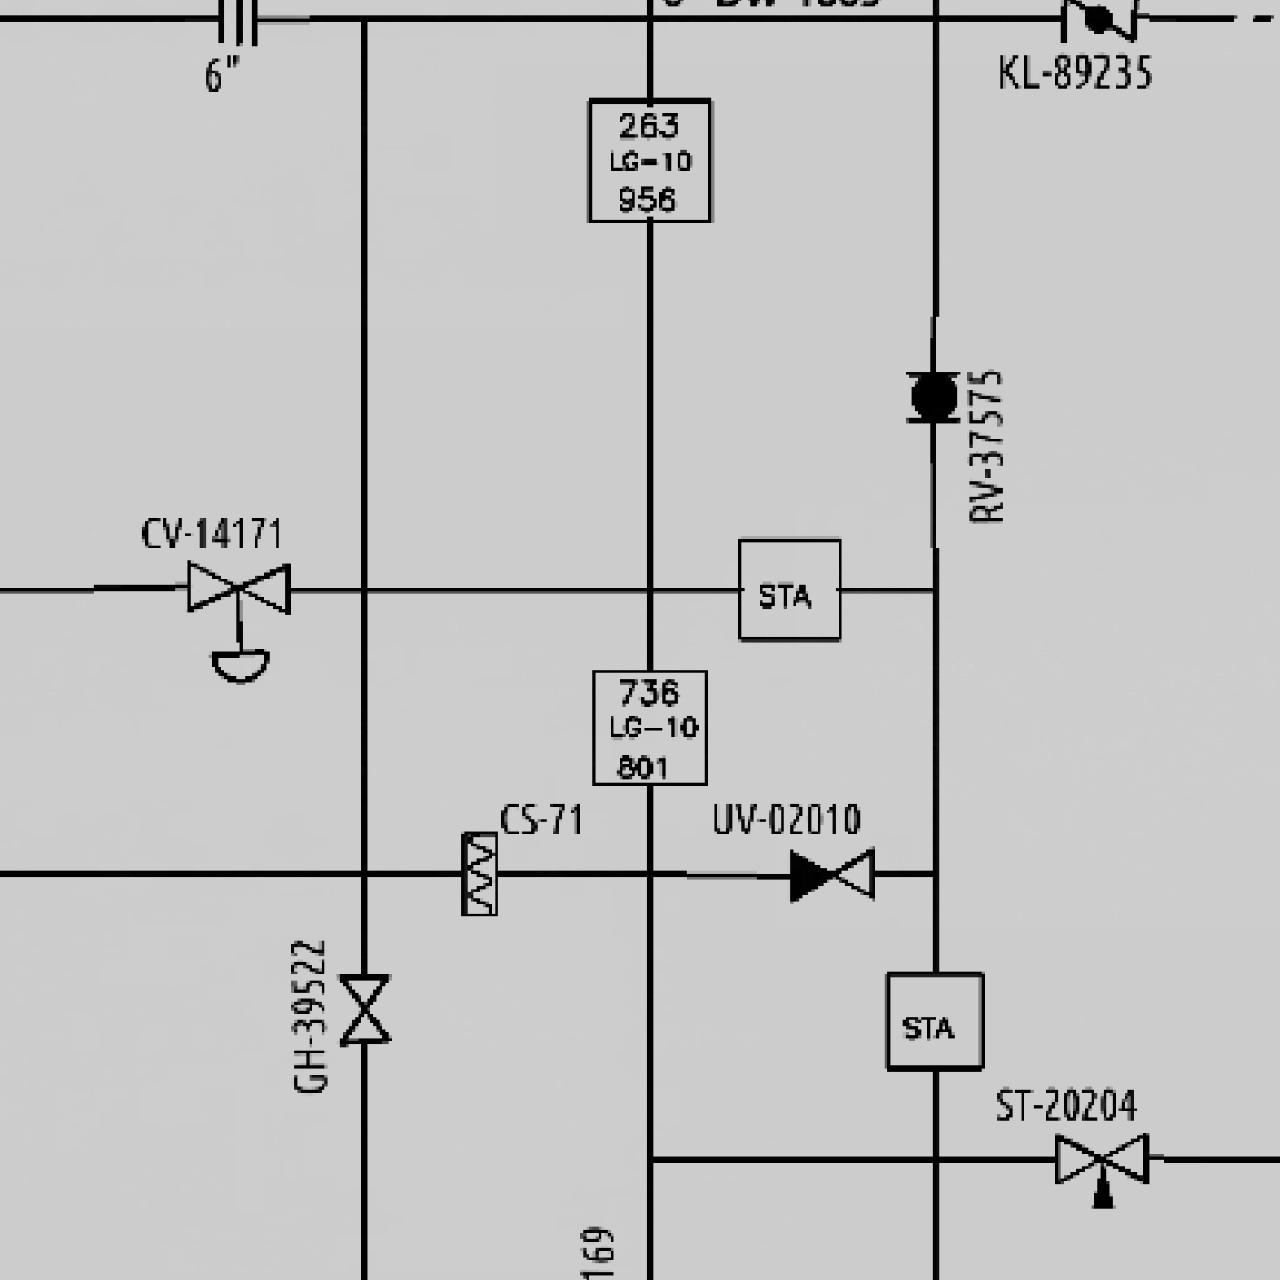Half closed valve: (784, 842, 879, 905)
